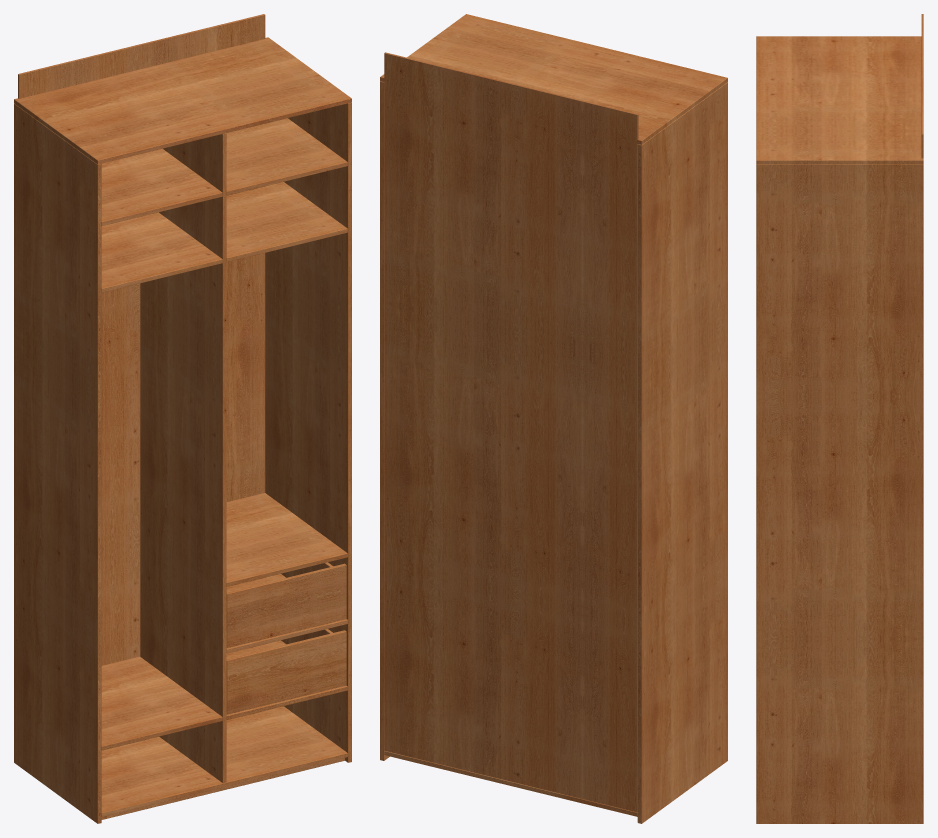
Rendered from Wood2v3.gltf.
3 views of the same model, side by side, from view 1: azimuth 30°, elevation 25°; view 2: azimuth 150°, elevation 25°; view 3: azimuth 270°, elevation 25° (orthographic). The views are drawn at different scales.
Visible parts, largest first — view 1: Korpys041, Object6230; view 2: Object6230, Korpys041; view 3: Korpys041, Object6230.
Boxes of the visible parts, x1,y1,x2,y2 form: Korpys041: [14, 37, 351, 823]; Object6230: [18, 14, 265, 665]; Object6230: [384, 52, 638, 812]; Korpys041: [380, 14, 727, 823]; Korpys041: [756, 36, 923, 823]; Object6230: [921, 14, 923, 158].
Bounding box in the file's own units: 1 × 2.58 × 0.57.
3 materials, 1 textured.
